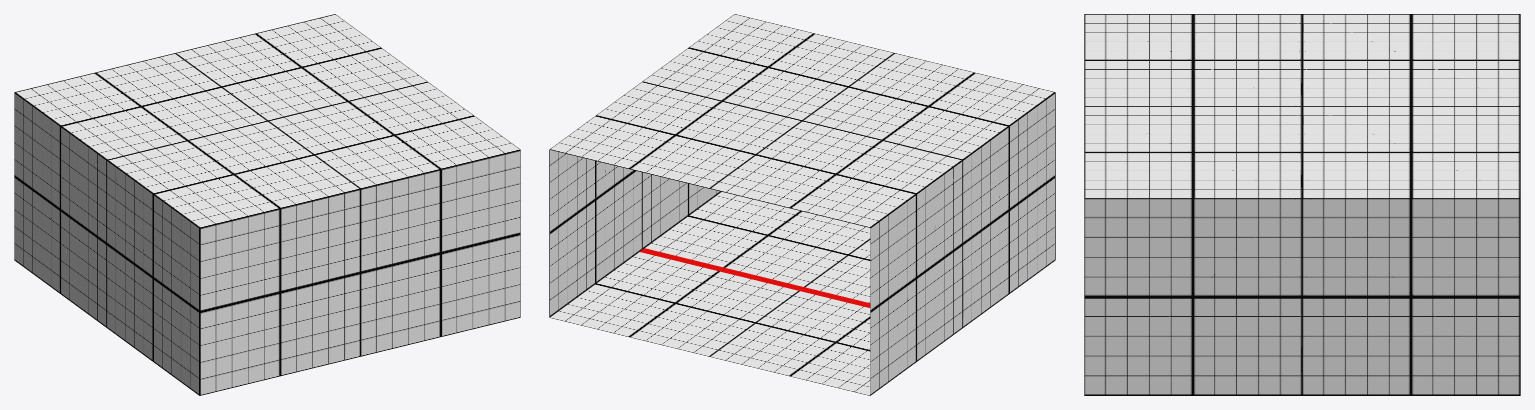
File: training_room.fbx
The picture shows the model from 3 angles, left to right: view 1: azimuth 30°, elevation 25°; view 2: azimuth 150°, elevation 25°; view 3: azimuth 270°, elevation 25°; orthographic projection. The views are drawn at different scales.
Parts seen in each view (by area): view 1: training_room; view 2: training_room; view 3: training_room.
Part boxes in pixels (<box>): training_room: <box>14,14,520,395</box>; training_room: <box>549,14,1055,395</box>; training_room: <box>1084,14,1520,395</box>.
Bounding box in the file's own units: 2000 × 1000 × 2000.
